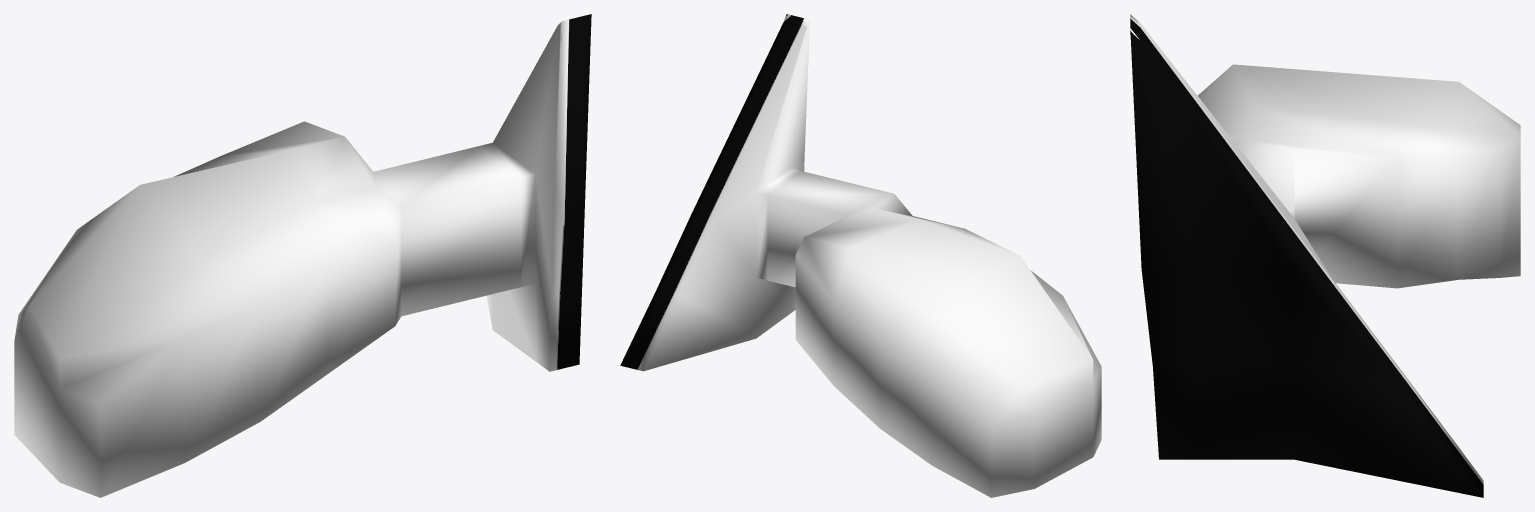
File: Car 1A Mirror R.fbx
The picture shows the model from 3 angles, left to right: view 1: azimuth 30°, elevation 25°; view 2: azimuth 150°, elevation 25°; view 3: azimuth 270°, elevation 25°; orthographic projection. The views are drawn at different scales.
Visible parts, largest first — view 1: 1AU Mirror R (3, Baked); view 2: 1AU Mirror R (3, Baked); view 3: 1AU Mirror R (3, Baked).
Boxes of the visible parts, x1,y1,x2,y2 form: 1AU Mirror R (3, Baked): [14, 14, 591, 497]; 1AU Mirror R (3, Baked): [620, 14, 1101, 497]; 1AU Mirror R (3, Baked): [1130, 14, 1520, 497].
Size of the model in its own units: 35.4 by 26 by 19.
